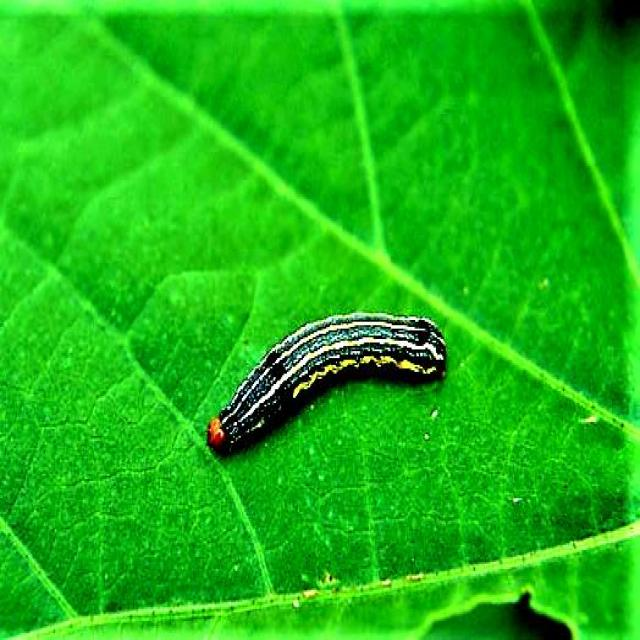armyworm: (205, 309, 447, 456)
